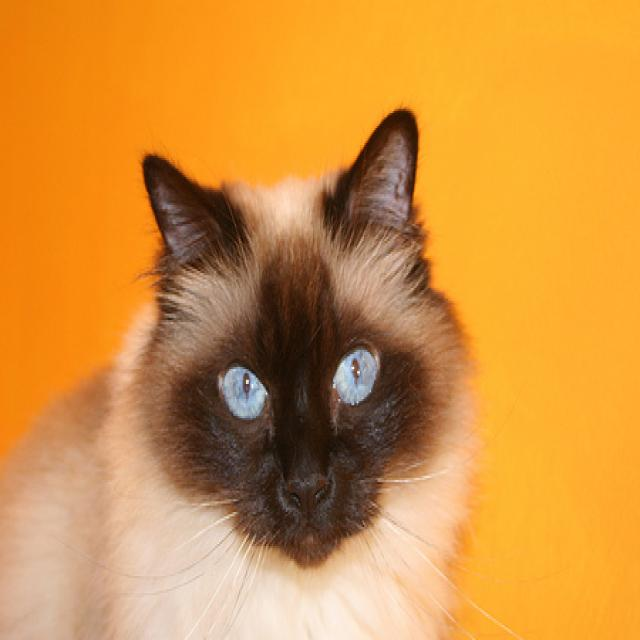Birman: (0, 100, 486, 639)
